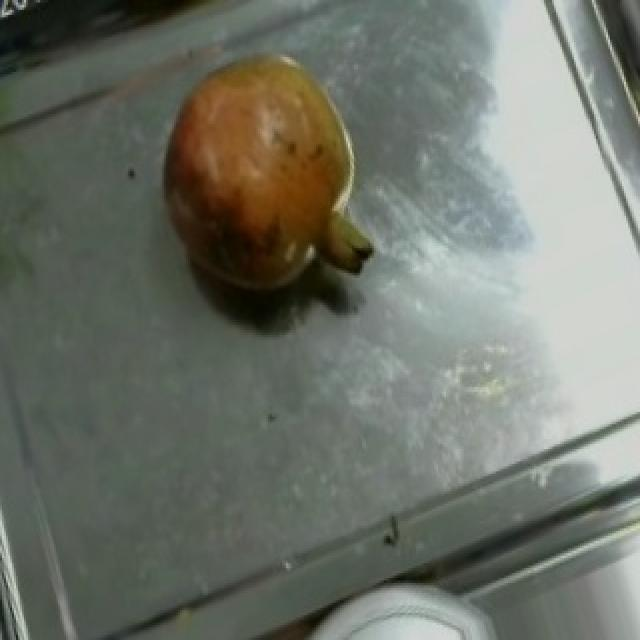fruit: (136, 27, 392, 310)
